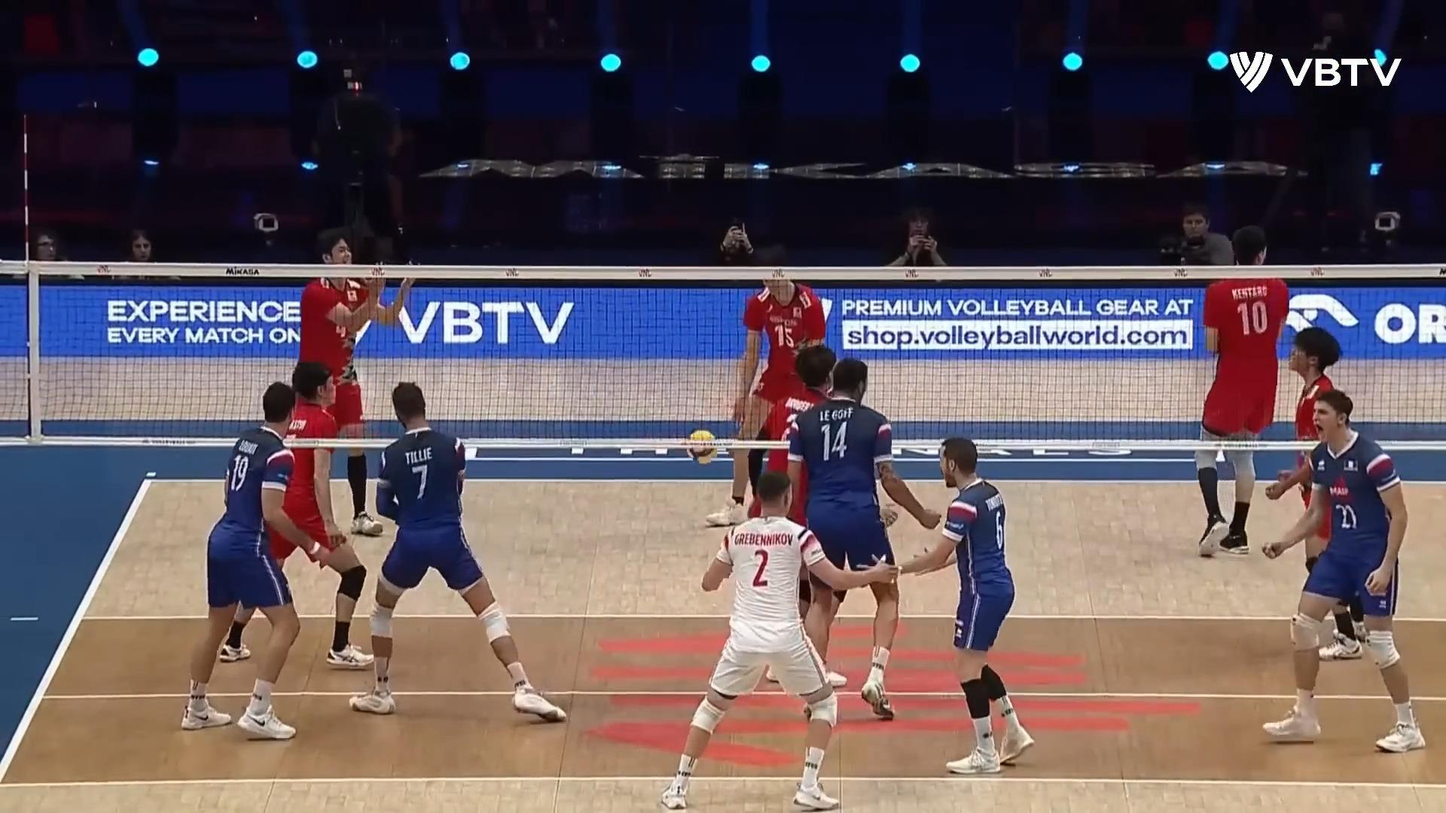ball: (686, 431, 717, 465)
